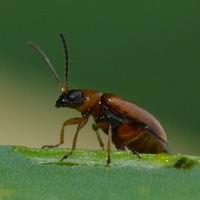insect: (28, 34, 168, 164)
